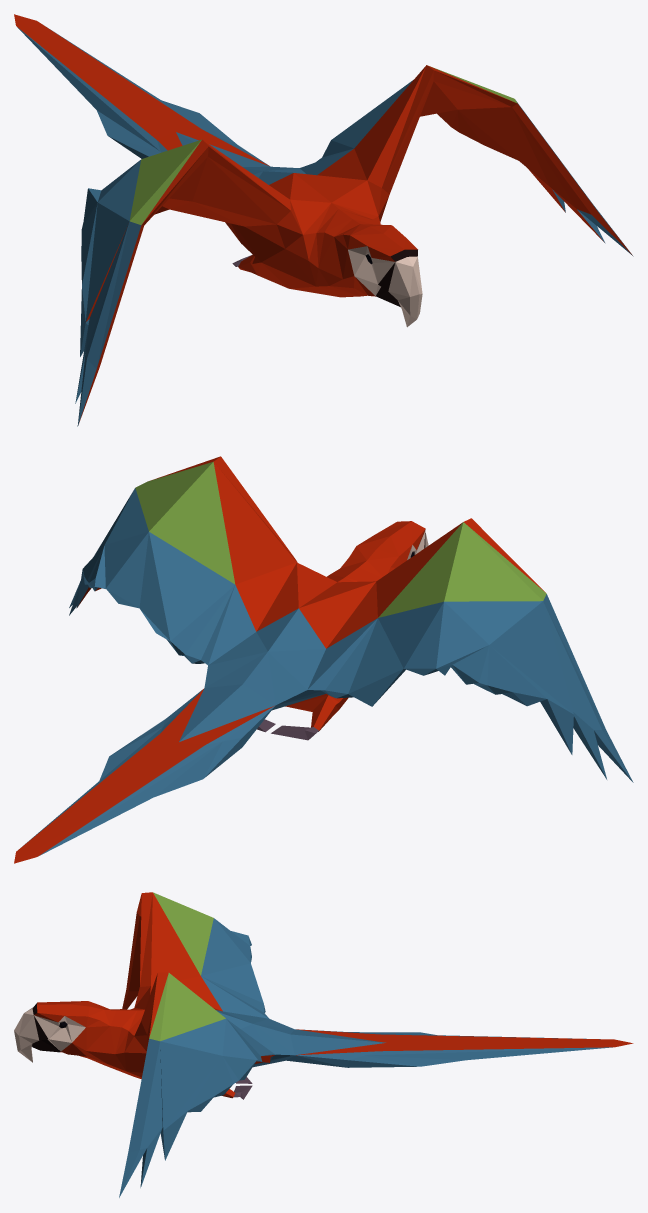
File: Parrot_v3_no_tail - Copy.glb
The picture shows the model from 3 angles, top to bottom: view 1: azimuth 30°, elevation 25°; view 2: azimuth 150°, elevation 25°; view 3: azimuth 270°, elevation 25°; orthographic projection. The views are drawn at different scales.
Bounding box in the file's own units: 79.5 × 33.7 × 100.
